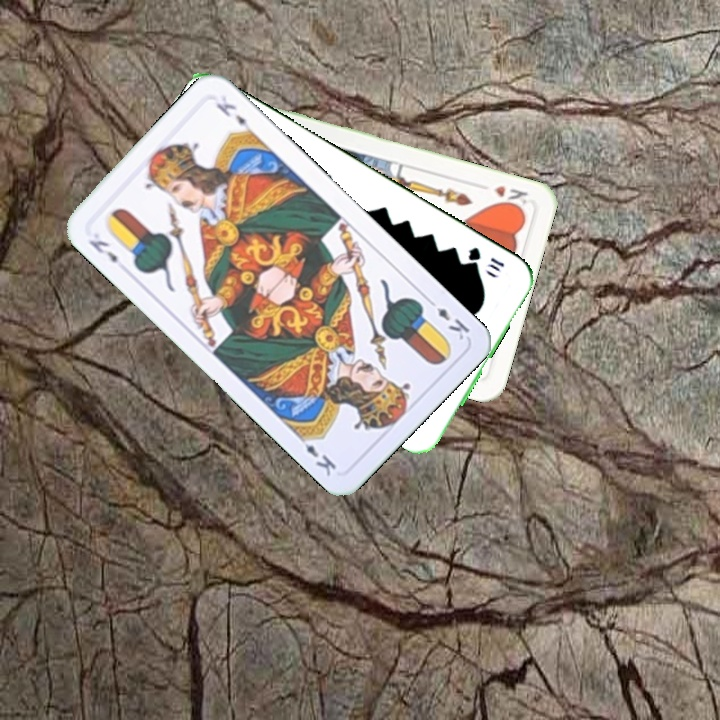EK: (423, 294, 472, 343), (84, 235, 121, 266)
G10: (463, 243, 507, 276)
HK: (490, 181, 531, 212)
